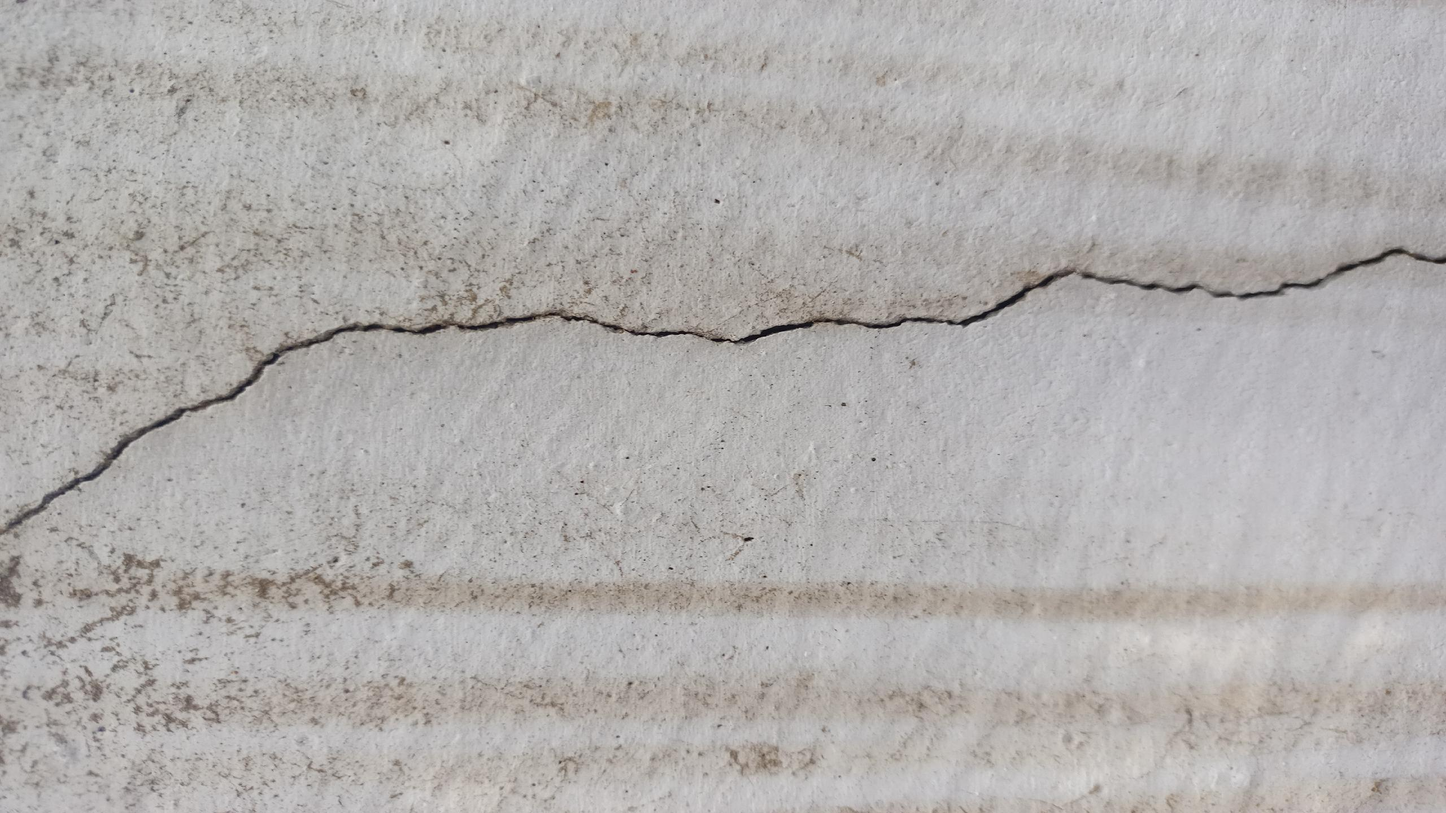crack: (9, 241, 1444, 536)
